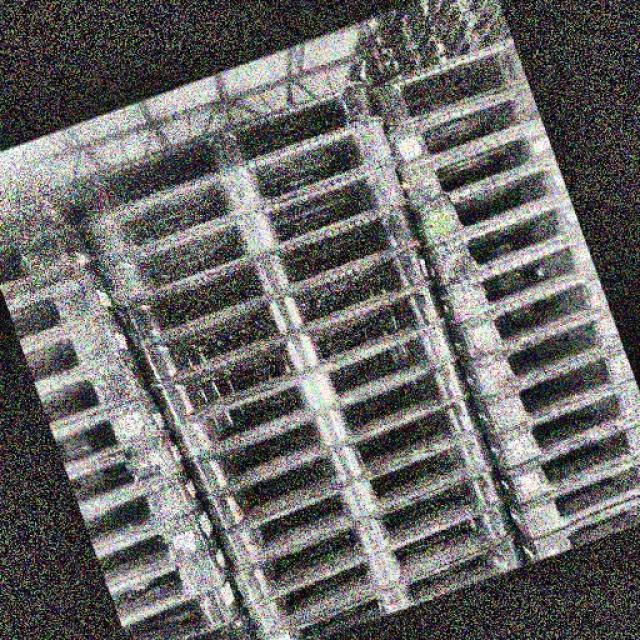igps: (72, 108, 406, 280), (89, 145, 412, 320), (107, 186, 428, 359), (136, 230, 437, 397), (146, 274, 452, 436), (67, 74, 380, 226), (168, 312, 474, 464), (197, 382, 488, 538), (179, 348, 474, 500), (215, 421, 498, 578), (227, 456, 508, 611), (238, 491, 519, 640), (252, 526, 528, 640), (416, 179, 616, 299), (455, 292, 639, 417), (444, 253, 629, 375), (442, 253, 624, 374), (428, 217, 604, 337), (466, 329, 638, 448), (404, 146, 578, 261), (382, 73, 567, 179), (480, 367, 640, 486), (394, 113, 573, 219), (364, 25, 534, 135), (492, 409, 640, 517), (85, 500, 228, 592), (48, 373, 175, 476), (104, 534, 237, 632), (79, 458, 209, 558), (504, 450, 638, 544), (59, 424, 192, 518), (0, 254, 123, 354), (16, 297, 137, 396), (33, 346, 154, 434), (511, 491, 640, 566), (0, 216, 101, 305), (118, 569, 244, 640), (0, 176, 85, 252), (184, 602, 260, 640)
